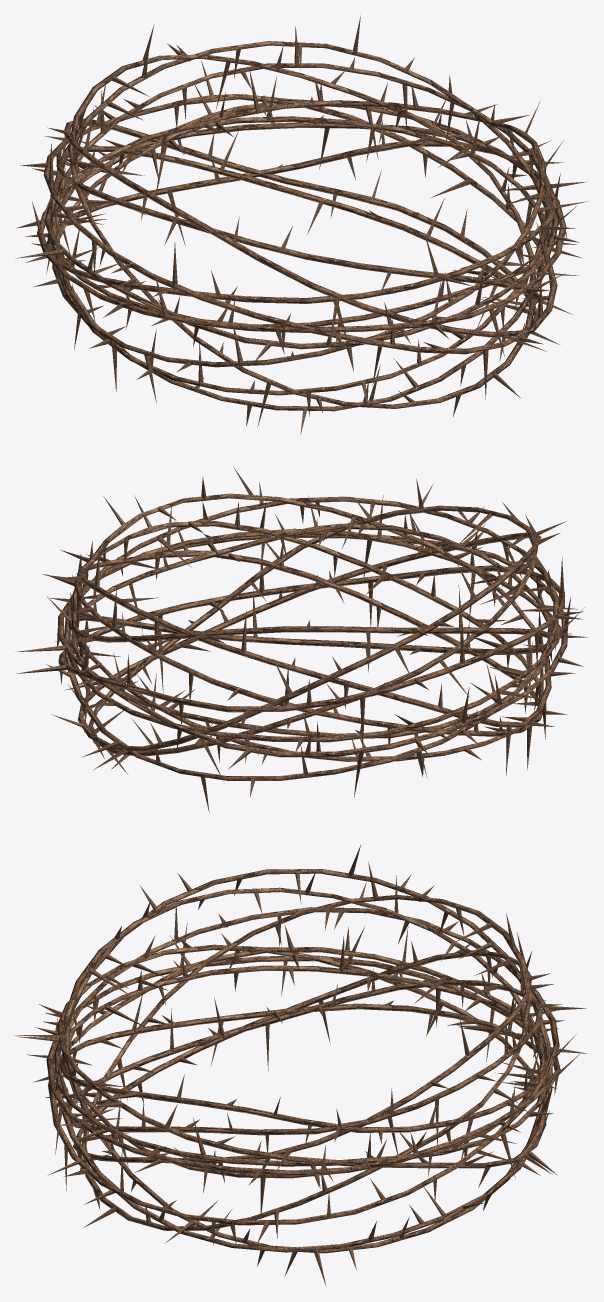
Rendered from shook.glb.
The picture shows the model from 3 angles, top to bottom: view 1: azimuth 30°, elevation 25°; view 2: azimuth 150°, elevation 25°; view 3: azimuth 270°, elevation 25°; orthographic projection. The views are drawn at different scales.
Parts seen in each view (by area): view 1: Circle008, Circle017, Circle009, Circle011, Circle006, Circle020, Circle010, Circle022, Circle003, Circle005, Circle004; view 2: Circle008, Circle011, Circle010, Circle009, Circle020, Circle006, Circle003, Circle005, Circle022, Circle017, Circle004; view 3: Circle011, Circle008, Circle017, Circle003, Circle006, Circle020, Circle022, Circle009, Circle010, Circle005, Circle004.
Boxes of the visible parts, x1,y1,x2,y2 form: Circle008: (20, 60, 576, 399); Circle017: (47, 24, 559, 426); Circle009: (32, 16, 577, 435); Circle011: (45, 85, 559, 362); Circle006: (33, 71, 587, 404); Circle020: (25, 26, 578, 416); Circle010: (25, 113, 575, 349); Circle022: (41, 129, 572, 326); Circle003: (16, 83, 587, 356); Circle005: (15, 92, 579, 386); Circle004: (31, 76, 582, 341); Circle008: (16, 547, 581, 747); Circle011: (51, 514, 559, 781); Circle010: (41, 479, 583, 812); Circle009: (59, 520, 554, 775); Circle020: (60, 495, 566, 770); Circle006: (44, 466, 575, 777); Circle003: (14, 501, 583, 797); Circle005: (50, 495, 584, 763); Circle022: (68, 483, 566, 774); Circle017: (47, 585, 571, 701); Circle004: (71, 496, 587, 777); Circle011: (36, 845, 564, 1286); Circle008: (43, 875, 586, 1245); Circle017: (80, 862, 550, 1243); Circle003: (45, 923, 589, 1193); Circle006: (26, 984, 547, 1169); Circle020: (45, 969, 562, 1152); Circle022: (14, 871, 546, 1276); Circle009: (48, 932, 553, 1182); Circle010: (39, 926, 557, 1187); Circle005: (33, 925, 556, 1187); Circle004: (16, 936, 558, 1219).
Size of the model in its own units: 0.1492 by 0.0754 by 0.1443.
1 material, 1 textured.
